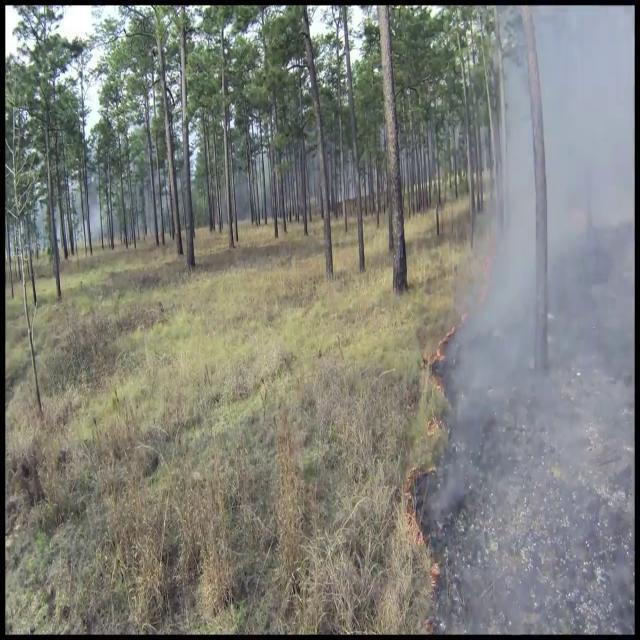Smoke: (430, 8, 634, 574)
